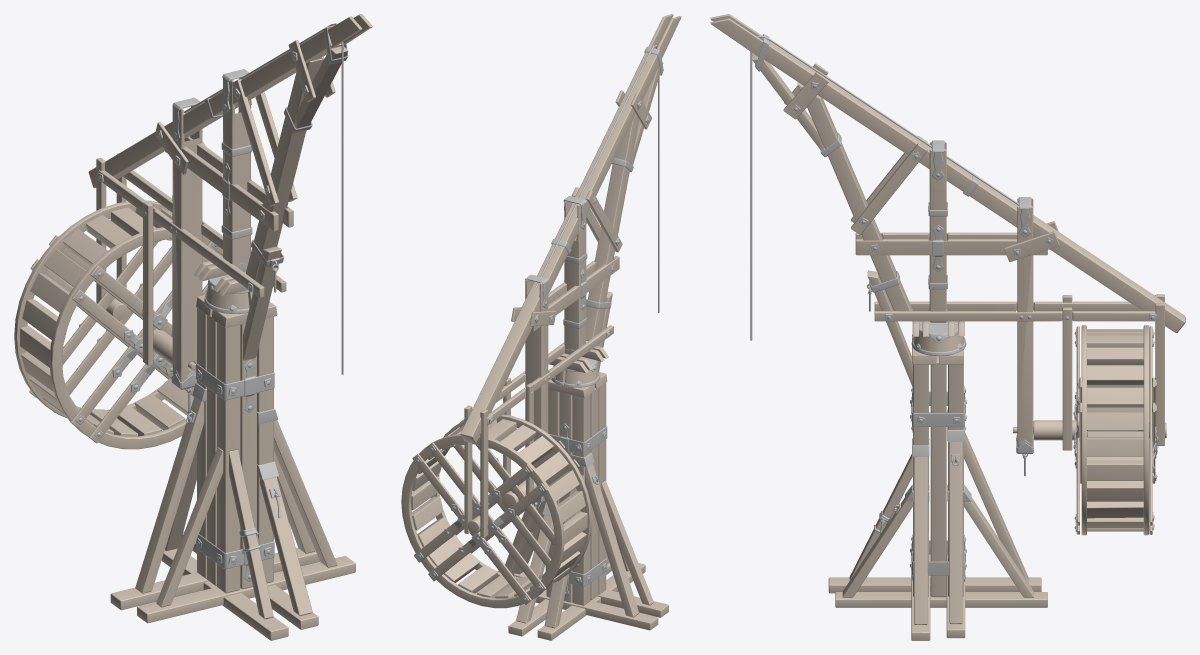
The model's file is build_crane_01.glb.
3 views of the same model, side by side, from view 1: azimuth 30°, elevation 25°; view 2: azimuth 150°, elevation 25°; view 3: azimuth 270°, elevation 25° (orthographic). The views are drawn at different scales.
Visible parts, largest first — view 1: build_crane_01, build_crane_01_wheel; view 2: build_crane_01, build_crane_01_wheel; view 3: build_crane_01, build_crane_01_wheel.
Boxes of the visible parts, box(x1,y1,x2,y2) form: build_crane_01: box(88, 14, 372, 640); build_crane_01_wheel: box(14, 200, 222, 449); build_crane_01: box(460, 14, 681, 640); build_crane_01_wheel: box(401, 414, 592, 608); build_crane_01: box(710, 14, 1185, 640); build_crane_01_wheel: box(1013, 325, 1166, 535).
Size of the model in its own units: 6.36 by 18.59 by 13.76.
